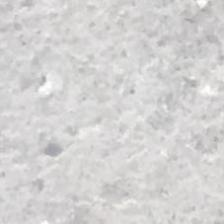Non_Crack: (64, 3, 201, 194)
